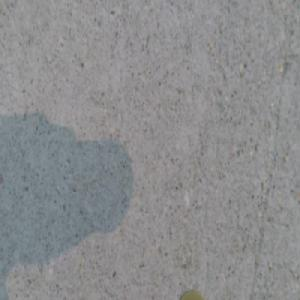Washer: (180, 286, 205, 300)
